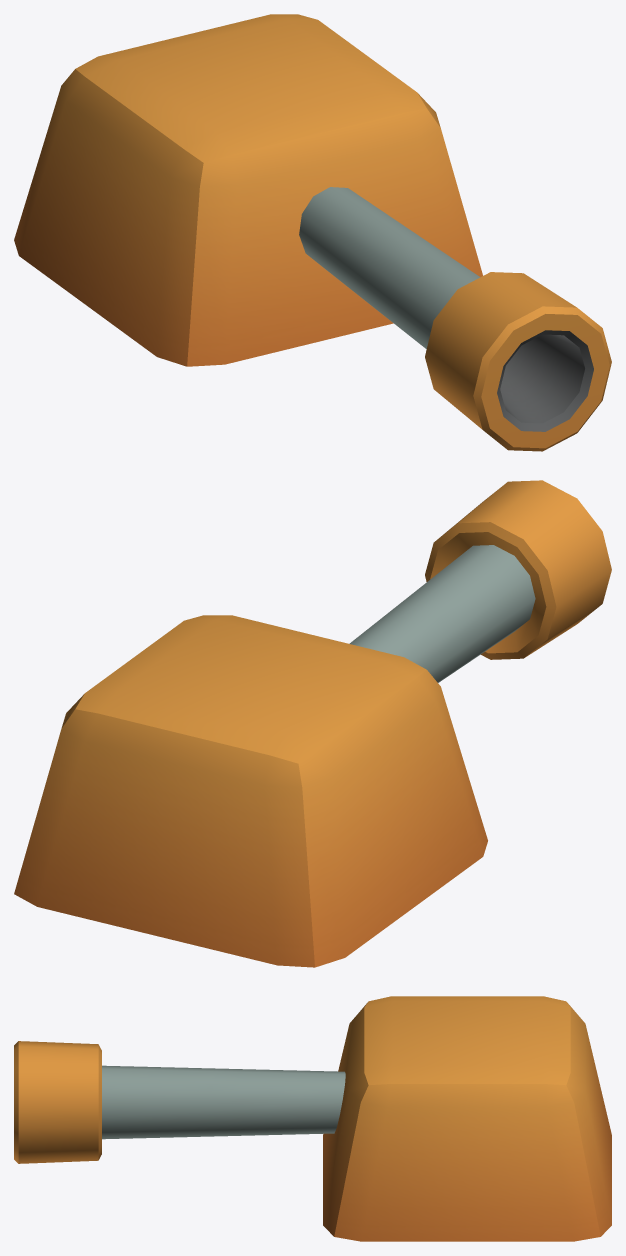
File: Barrel.obj
3 views of the same model, one above another, from view 1: azimuth 30°, elevation 25°; view 2: azimuth 150°, elevation 25°; view 3: azimuth 270°, elevation 25° (orthographic). The views are drawn at different scales.
Visible parts, largest first — view 1: Barrel; view 2: Barrel; view 3: Barrel.
Boxes of the visible parts, x1,y1,x2,y2 form: Barrel: (14,14,611,451); Barrel: (14,480,611,967); Barrel: (14,996,611,1241).
Size of the model in its own units: 0.2885 by 0.1618 by 0.5947.
